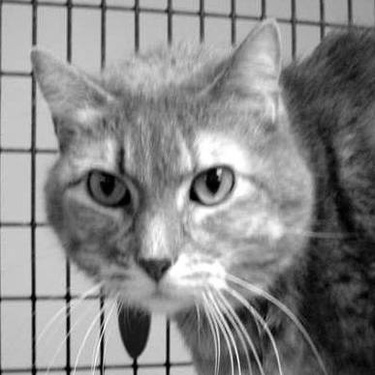cat: (1, 5, 369, 371)
